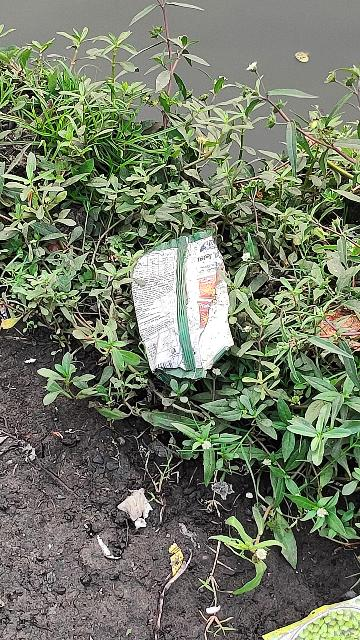packet: (128, 244, 235, 380)
